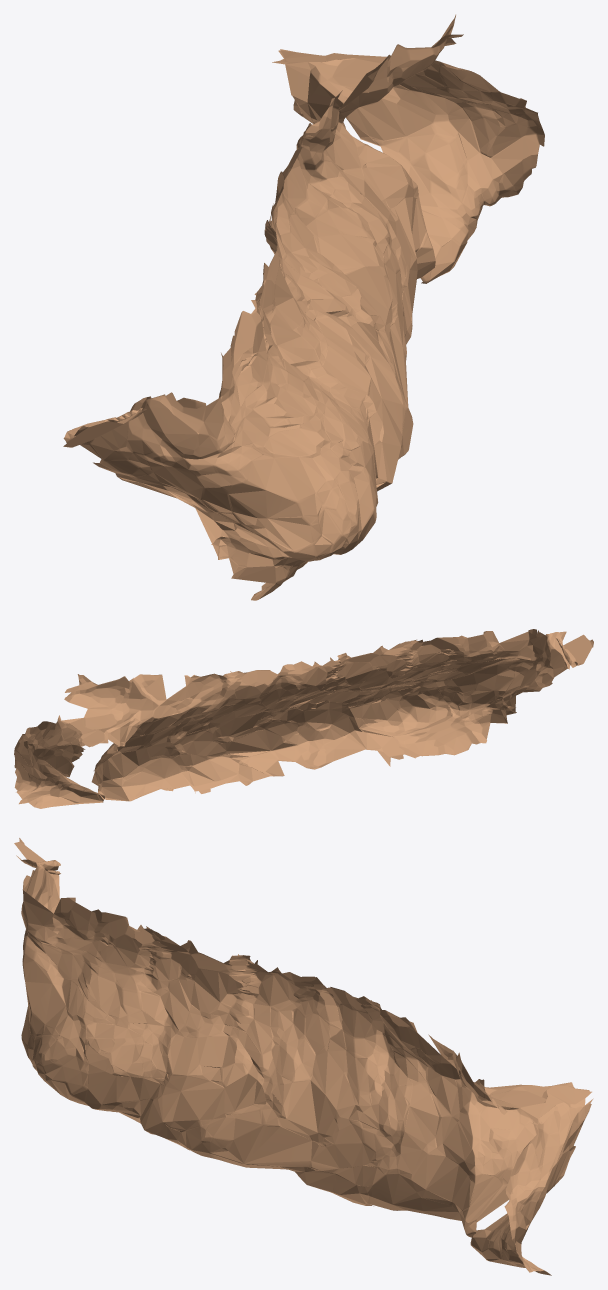
Rendered from SandstoneBig_Mesh_25_005LODs.fbx.
3 renders of one model, top to bottom at view 1: azimuth 30°, elevation 25°; view 2: azimuth 150°, elevation 25°; view 3: azimuth 270°, elevation 25°, orthographic. The views are drawn at different scales.
Visible parts, largest first — view 1: Mesh_25.005_LOD0; view 2: Mesh_25.005_LOD0; view 3: Mesh_25.005_LOD0.
Boxes of the visible parts, <box> form: Mesh_25.005_LOD0: <box>63,14,544,600</box>; Mesh_25.005_LOD0: <box>14,629,593,808</box>; Mesh_25.005_LOD0: <box>14,838,593,1275</box>.
Size of what is drawn, in the model's own units: 10904 by 3349 by 9496.
